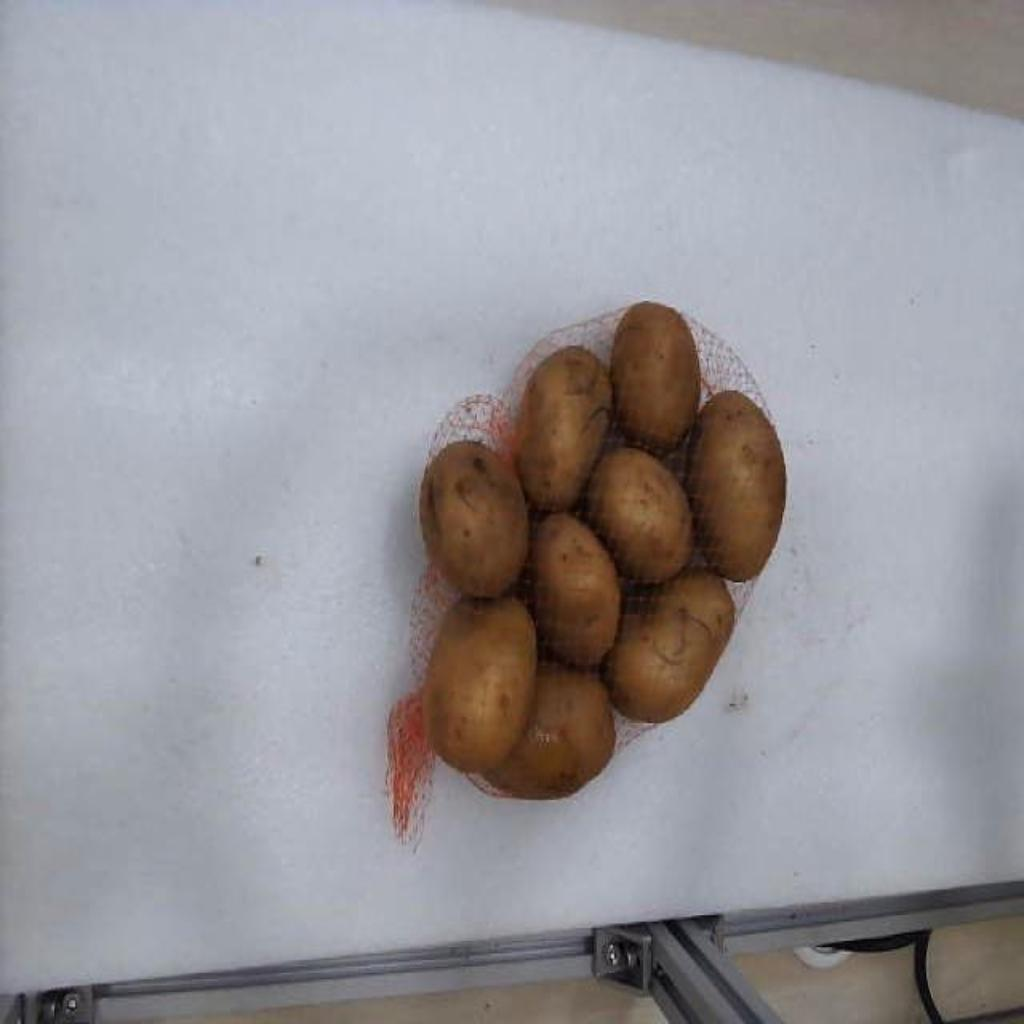potato: (424, 597, 536, 772), (604, 571, 734, 721), (686, 389, 786, 580), (484, 661, 616, 799), (422, 443, 528, 596), (516, 347, 612, 511), (588, 448, 690, 583), (530, 512, 618, 665), (614, 301, 700, 452)
